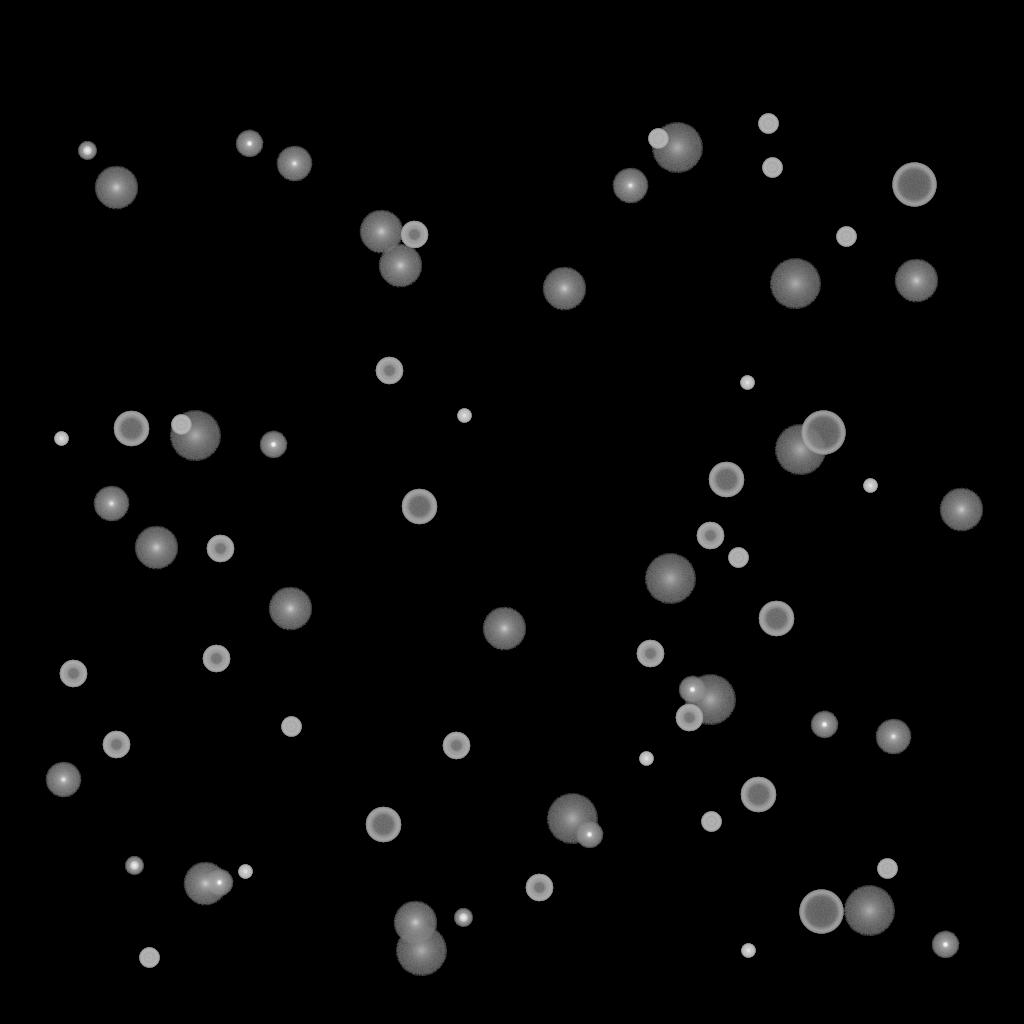depth:-10: (931, 931, 959, 959), (235, 130, 263, 158), (205, 869, 233, 897), (810, 711, 838, 739), (575, 821, 603, 849), (259, 431, 287, 459), (678, 676, 706, 704)
depth:-20: (125, 857, 143, 875), (454, 909, 472, 927), (78, 142, 96, 160)
depth:-30: (238, 865, 252, 879), (457, 409, 471, 423), (740, 376, 754, 390), (863, 479, 877, 493), (54, 432, 68, 446), (639, 752, 653, 766), (741, 944, 755, 958)
depth:-40: (758, 114, 778, 134), (762, 158, 782, 178), (728, 548, 748, 568), (701, 812, 721, 832), (877, 859, 897, 879), (171, 415, 191, 435), (648, 129, 668, 149), (139, 948, 159, 968), (281, 717, 301, 737), (836, 227, 856, 247)
depth:-50: (375, 357, 403, 385), (202, 645, 230, 673), (696, 522, 724, 550), (206, 535, 234, 563), (59, 660, 87, 688), (675, 704, 703, 732), (525, 874, 553, 902), (400, 221, 428, 249), (102, 731, 130, 759), (636, 640, 664, 668), (442, 732, 470, 760)
depth:-60: (740, 777, 776, 813), (113, 411, 149, 447), (365, 807, 401, 843), (401, 489, 437, 525), (708, 462, 744, 498), (758, 601, 794, 637)
depth:-70: (799, 890, 843, 934), (892, 163, 936, 207), (801, 411, 845, 455)
depth:0: (875, 719, 911, 755), (612, 168, 648, 204), (93, 486, 129, 522), (45, 762, 81, 798), (276, 146, 312, 182)
depth:10: (939, 488, 983, 532), (183, 862, 227, 906), (268, 587, 312, 631), (378, 244, 422, 288), (134, 526, 178, 570), (542, 267, 586, 311), (894, 259, 938, 303), (359, 210, 403, 254), (482, 607, 526, 651), (94, 166, 138, 210), (393, 901, 437, 945)
depth:20: (769, 259, 821, 309), (774, 425, 826, 475), (395, 926, 447, 976), (169, 411, 221, 461), (843, 886, 895, 936), (651, 123, 703, 173), (684, 675, 736, 725), (644, 554, 696, 604), (546, 794, 598, 844)
